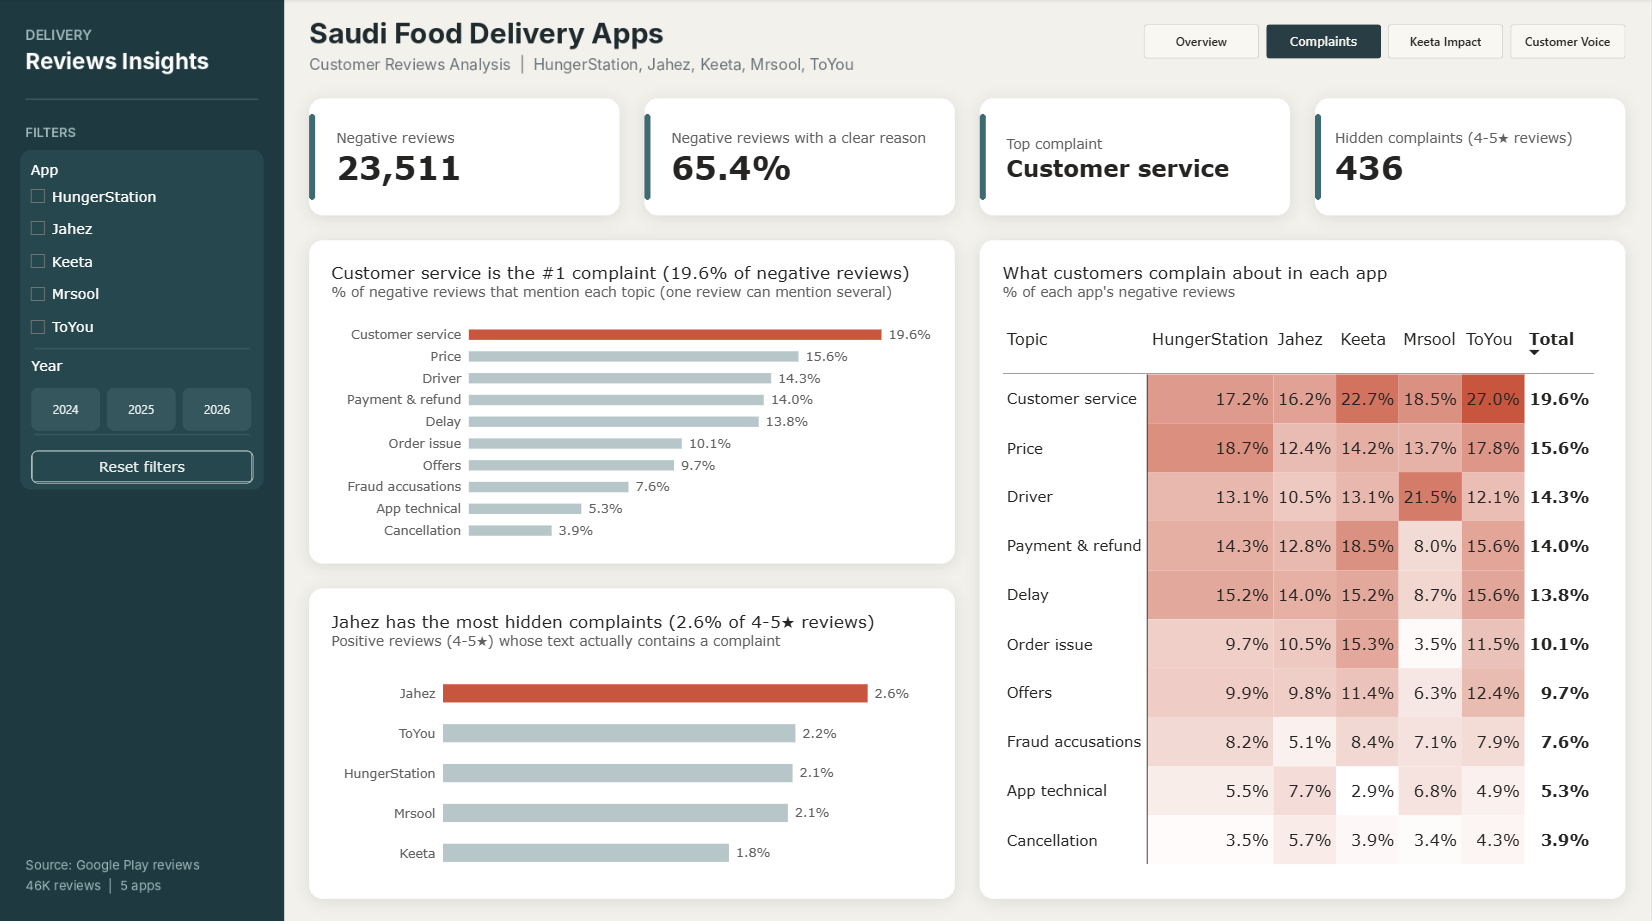

Layout of this report page (visuals, bound fields, positions):
{"tool":"powerbi","page":{"name":"Complaints","canvas":[1920,1080],"ordinal":1},"visuals":[{"type":"cardVisual","fields":{"Data":["Fact_Reviews.Negative Reviews Shown"]},"box":[375,125,335,125],"z":0},{"type":"cardVisual","fields":{"Data":["Fact_Reviews.Topic Share"]},"box":[765,125,335,125],"z":1000},{"type":"cardVisual","fields":{"Data":["Fact_Reviews.Top Complaint"]},"box":[1155,125,335,125],"z":2000},{"type":"cardVisual","fields":{"Data":["Fact_Reviews.Hidden Complaints"]},"box":[1536.7,125,335,125],"z":3000},{"type":"slicer","fields":{"Values":["Dim_App.App"]},"box":[28.3,188.3,260,386.7],"z":4000},{"type":"clusteredBarChart","fields":{"Category":["Review_Topics.Topic"],"Y":["Fact_Reviews.Topic Share"]},"box":[370,292,730,360],"z":5000},{"type":"pivotTable","title":"What customers complain about in each app","fields":{"Columns":["Dim_App.App"],"Rows":["Review_Topics.Topic"],"Values":["Fact_Reviews.Topic Share"]},"box":[1150,292,730,745],"z":6000},{"type":"clusteredBarChart","fields":{"Category":["Dim_App.App"],"Y":["Fact_Reviews.Hidden Complaint %"]},"box":[370,697,730,345],"z":7000},{"type":"advancedSlicerVisual","title":"Year","fields":{"Values":["Dim_Date.Year"]},"box":[36,418,258,86],"z":7001},{"type":"actionButton","box":[36,526,258,38],"z":7002},{"type":"pageNavigator","box":[1330,30,560,40],"z":7003}]}

Visuals, with their boxes in screenshot pixels (x1, y1, x2, y2), scaled from the page's 1920x1080 canvas onto the 1652x921 screenshot:
cardVisual - Fact_Reviews.Negative Reviews Shown: box(323, 107, 611, 213)
cardVisual - Fact_Reviews.Topic Share: box(658, 107, 946, 213)
cardVisual - Fact_Reviews.Top Complaint: box(994, 107, 1282, 213)
cardVisual - Fact_Reviews.Hidden Complaints: box(1322, 107, 1610, 213)
slicer - Dim_App.App: box(24, 161, 248, 490)
clusteredBarChart - Review_Topics.Topic x Fact_Reviews.Topic Share: box(318, 249, 946, 556)
"What customers complain about in each app" pivotTable: box(989, 249, 1618, 884)
clusteredBarChart - Dim_App.App x Fact_Reviews.Hidden Complaint %: box(318, 594, 946, 889)
"Year" advancedSlicerVisual: box(31, 356, 253, 430)
actionButton: box(31, 449, 253, 481)
pageNavigator: box(1144, 26, 1626, 60)
